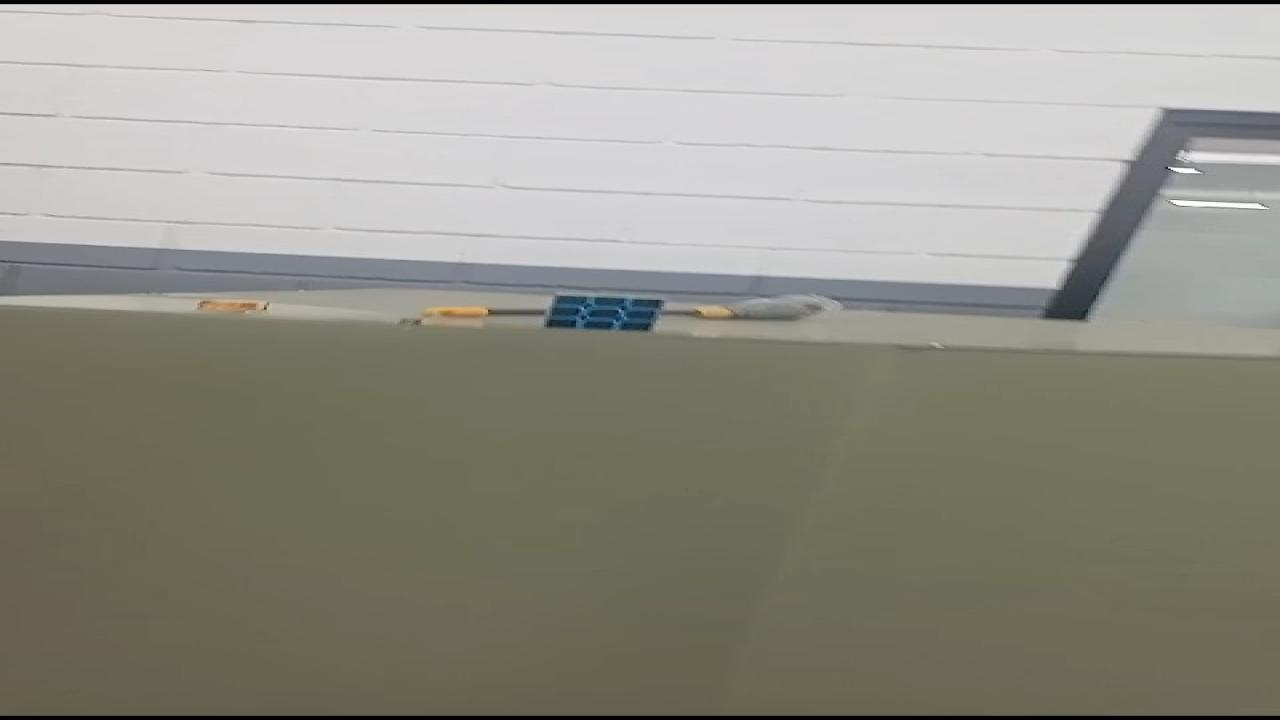Cube: (539, 290, 664, 332)
